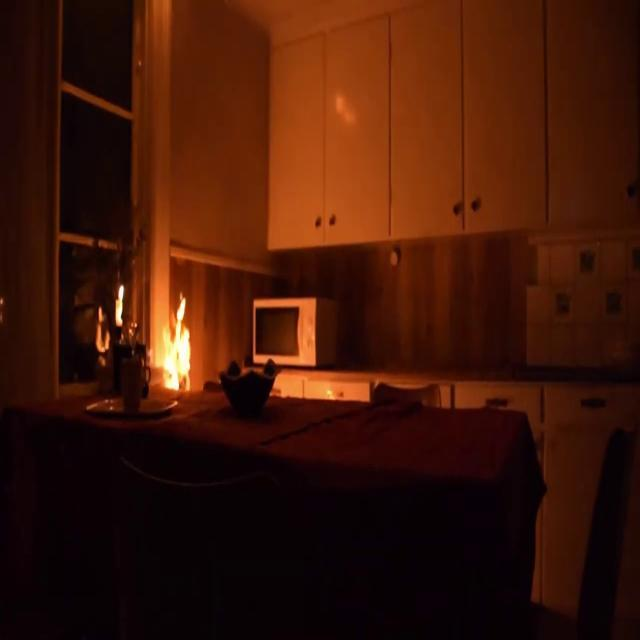Fire: (150, 287, 202, 397)
